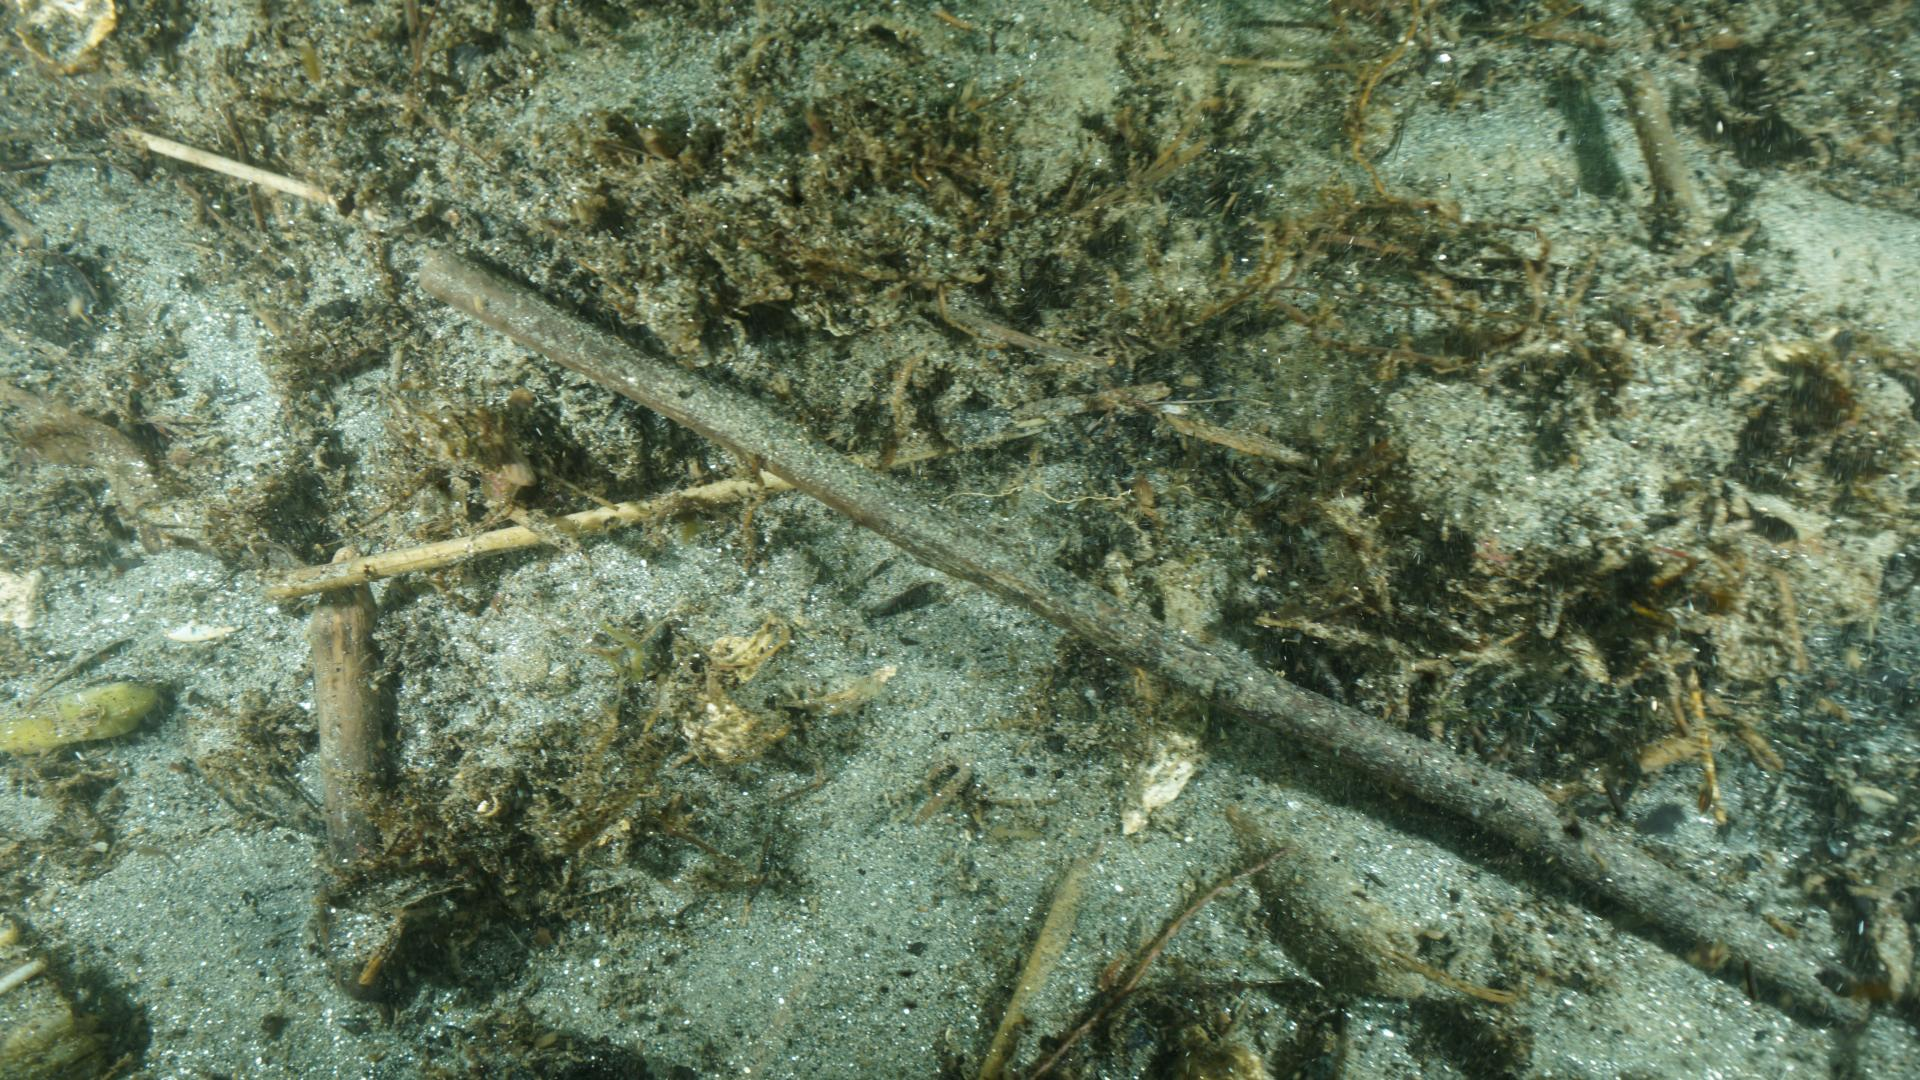wood: (405, 247, 1884, 1043)
